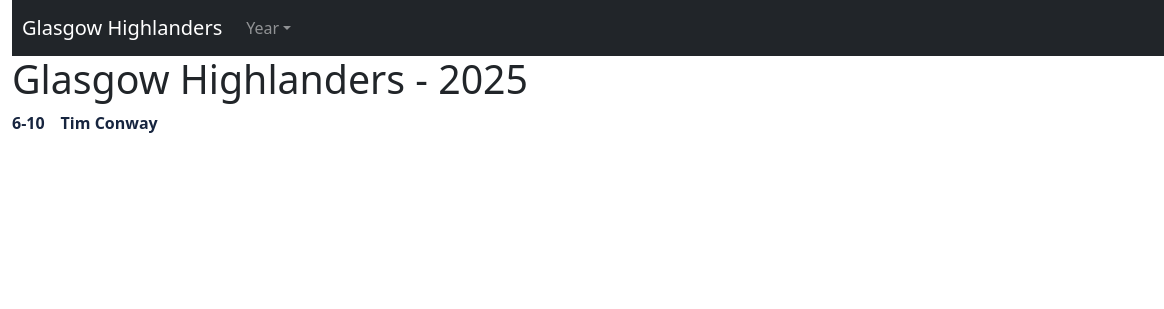
Test: changing Glasgow to 2024 loads Detroit, then 2025 returns to Glasgow
Expected: the text "6-10" is shown, [12, 111, 45, 135]
Click the button "Year": [269, 28] box [238, 8, 299, 48]
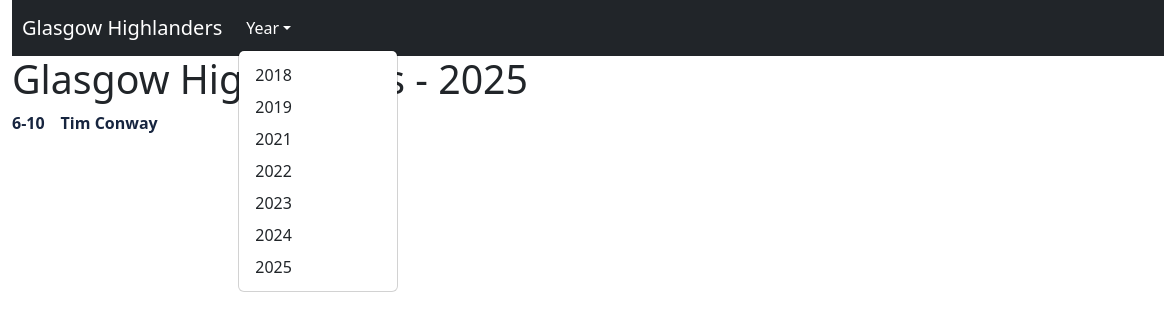
Click the link "2024": [274, 235] box [255, 224, 292, 246]
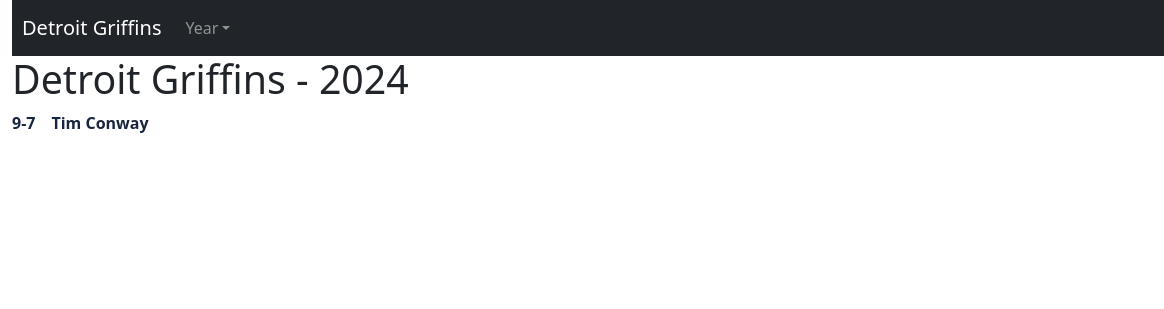
Expected: the text "Tim Conway" is shown, [52, 111, 149, 135]
Now the heading "Detroit Griffins - 2024" is shown, box [12, 52, 409, 106]
Now the text "9-7" is shown, box [12, 111, 36, 135]
Click the button "Year": [208, 28] box [178, 8, 238, 48]
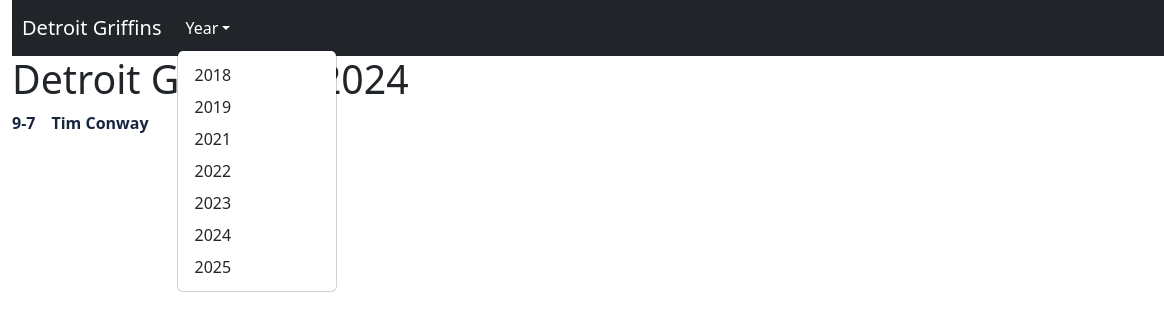
Click the link "2025": [213, 267] box [194, 256, 231, 278]
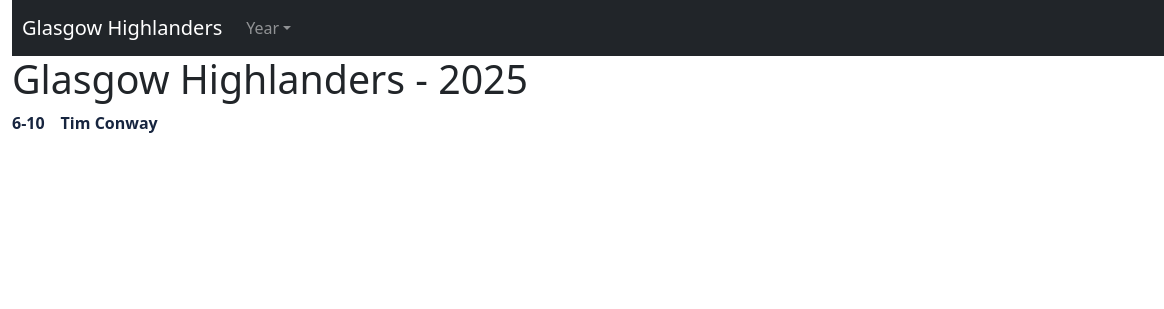
Now the heading "Glasgow Highlanders - 2025" is shown, box [12, 52, 528, 106]
